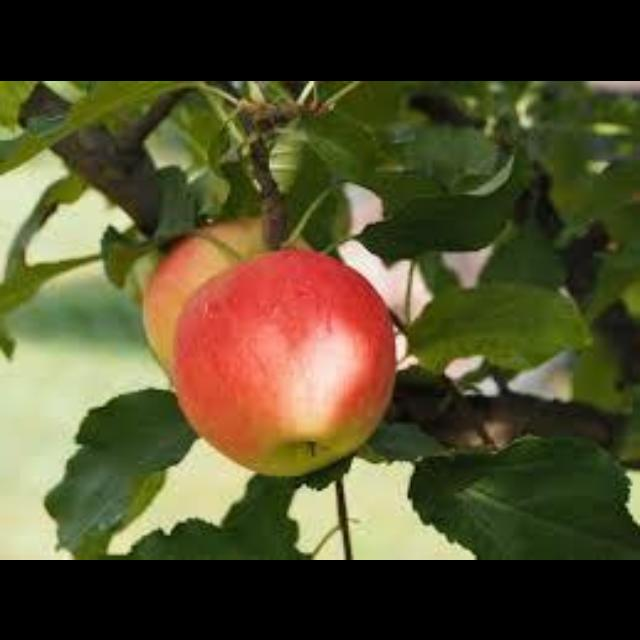apple: (173, 248, 393, 473), (143, 216, 264, 377)
